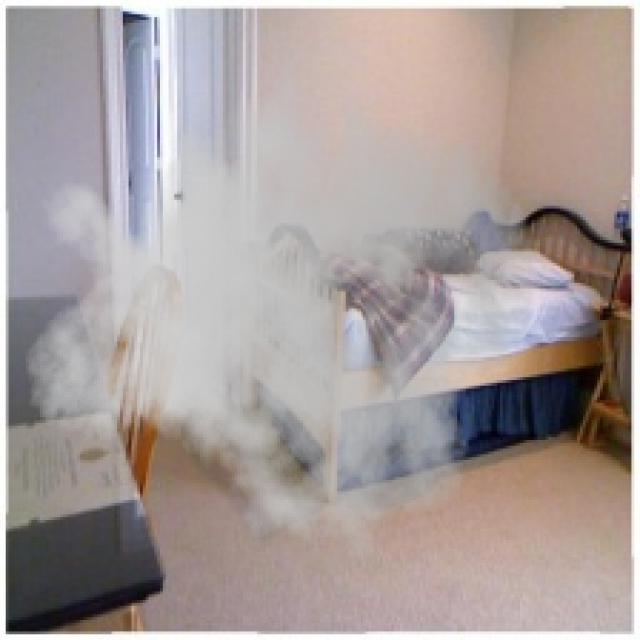smoke: (23, 40, 537, 571)
